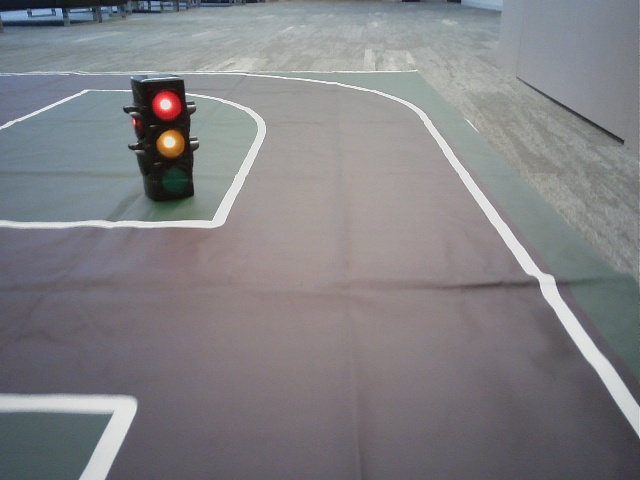red: (148, 82, 193, 199)
